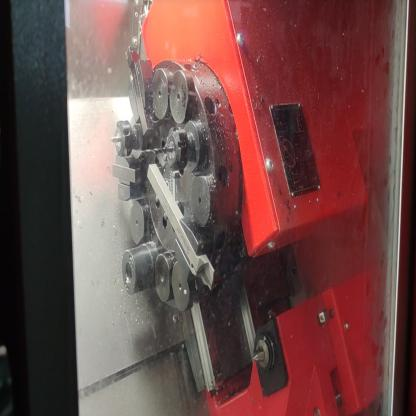bit: (145, 162, 219, 296), (124, 44, 154, 136), (111, 153, 144, 202)
